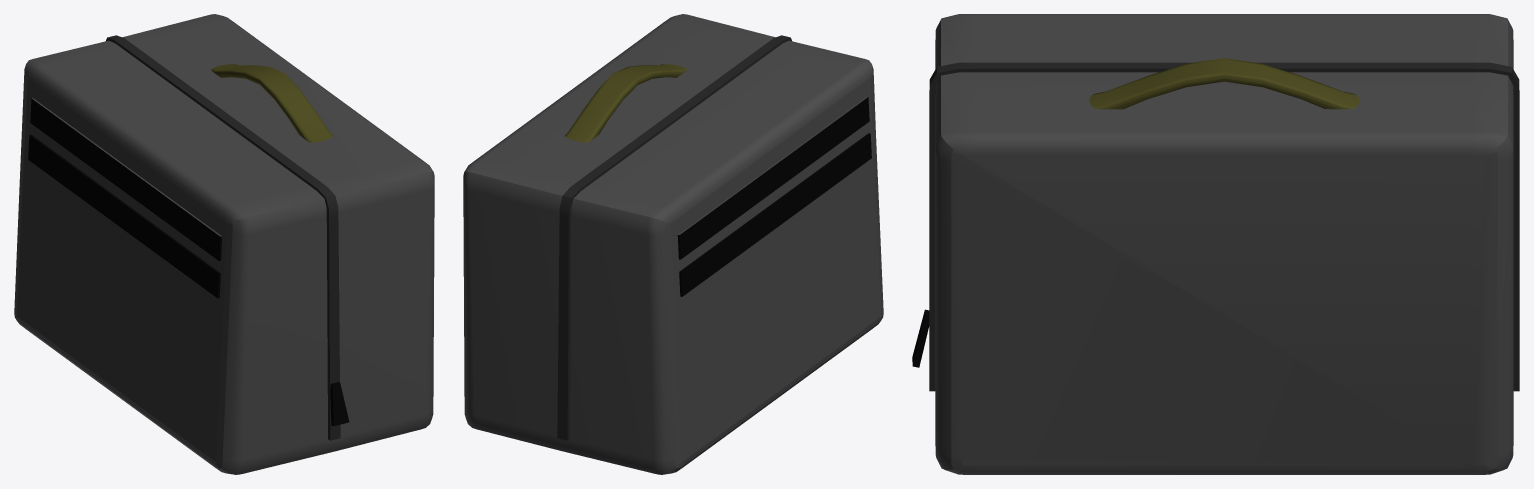
The model's file is survivalkit.fbx.
3 views of the same model, side by side, from view 1: azimuth 30°, elevation 25°; view 2: azimuth 150°, elevation 25°; view 3: azimuth 270°, elevation 25° (orthographic). The views are drawn at different scales.
Visible parts, largest first — view 1: Box, Velcro, Zipper.001, Handle, Zipper; view 2: Box, Velcro, Zipper.001, Handle; view 3: Box, Zipper.001, Handle.
Part boxes in pixels (<box>): Box: <box>14,14,434,474</box>; Velcro: <box>28,98,222,298</box>; Zipper.001: <box>106,35,340,440</box>; Handle: <box>211,64,332,142</box>; Zipper: <box>330,382,349,425</box>; Box: <box>463,14,883,474</box>; Velcro: <box>677,97,871,296</box>; Zipper.001: <box>557,35,791,440</box>; Handle: <box>565,64,686,142</box>; Box: <box>935,14,1513,474</box>; Zipper.001: <box>929,62,1519,391</box>; Handle: <box>1089,58,1359,109</box>.
Bounding box in the file's own units: 438 × 559 × 813.
